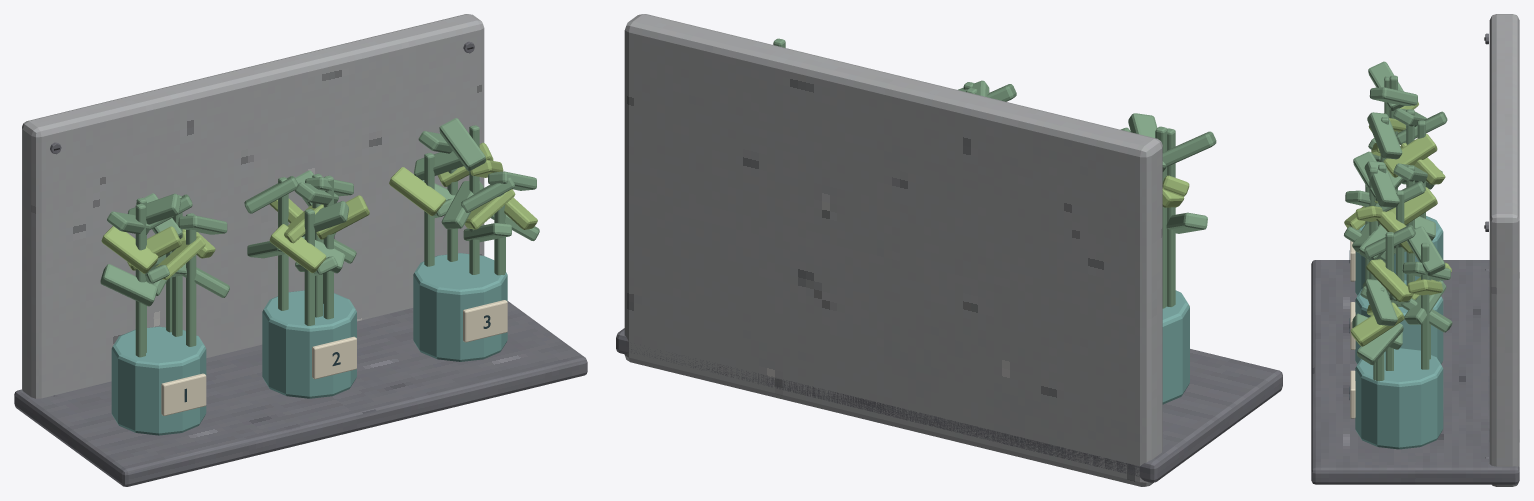
The model's file is lbd_bot_cuttings.glb.
The picture shows the model from 3 angles, left to right: view 1: azimuth 30°, elevation 25°; view 2: azimuth 150°, elevation 25°; view 3: azimuth 270°, elevation 25°; orthographic projection. The views are drawn at different scales.
Parts seen in each view (by area): view 1: bot_cuttings__mount_003, bot_cuttings__shelf_022, bot_cuttings__jar_157, bot_cuttings__jar_023, bot_cuttings__jar_090, bot_cuttings__plant label_086, bot_cuttings__plant label_220, bot_cuttings__plant label_153, bot_cuttings__folded leaf_202, bot_cuttings__folded leaf_193, bot_cuttings__folded leaf_077, bot_cuttings__folded leaf_068 (+24 smaller); view 2: bot_cuttings__mount_003, bot_cuttings__shelf_022, bot_cuttings__jar_023, bot_cuttings__stem_074, bot_cuttings__folded leaf_083, bot_cuttings__stem_062, bot_cuttings__folded leaf_077; view 3: bot_cuttings__shelf_022, bot_cuttings__mount_003, bot_cuttings__jar_157, bot_cuttings__jar_090, bot_cuttings__folded leaf_047, bot_cuttings__folded leaf_181, bot_cuttings__folded leaf_114, bot_cuttings__folded leaf_032, bot_cuttings__folded leaf_190, bot_cuttings__jar_023, bot_cuttings__folded leaf_217, bot_cuttings__stem_208 (+30 smaller).
Part boxes in pixels (x1=…): bot_cuttings__mount_003: x1=22, y1=14, x2=484, y2=398; bot_cuttings__shelf_022: x1=14, y1=301, x2=587, y2=486; bot_cuttings__jar_157: x1=413, y1=253, x2=507, y2=361; bot_cuttings__jar_023: x1=111, y1=326, x2=206, y2=435; bot_cuttings__jar_090: x1=262, y1=290, x2=356, y2=398; bot_cuttings__plant label_086: x1=161, y1=373, x2=206, y2=415; bot_cuttings__plant label_220: x1=463, y1=300, x2=507, y2=342; bot_cuttings__plant label_153: x1=312, y1=336, x2=356, y2=379; bot_cuttings__folded leaf_202: x1=389, y1=167, x2=445, y2=215; bot_cuttings__folded leaf_193: x1=439, y1=118, x2=485, y2=171; bot_cuttings__folded leaf_077: x1=100, y1=264, x2=157, y2=306; bot_cuttings__folded leaf_068: x1=101, y1=226, x2=158, y2=273; bot_cuttings__mount_003: x1=624, y1=14, x2=1162, y2=486; bot_cuttings__shelf_022: x1=616, y1=328, x2=1282, y2=482; bot_cuttings__jar_023: x1=1162, y1=290, x2=1189, y2=404; bot_cuttings__stem_074: x1=1167, y1=128, x2=1175, y2=306; bot_cuttings__folded leaf_083: x1=1162, y1=131, x2=1216, y2=166; bot_cuttings__stem_062: x1=1155, y1=126, x2=1167, y2=308; bot_cuttings__folded leaf_077: x1=1166, y1=212, x2=1207, y2=233; bot_cuttings__shelf_022: x1=1311, y1=260, x2=1519, y2=484; bot_cuttings__mount_003: x1=1489, y1=14, x2=1519, y2=486; bot_cuttings__jar_157: x1=1355, y1=348, x2=1443, y2=449; bot_cuttings__jar_090: x1=1355, y1=280, x2=1443, y2=363; bot_cuttings__folded leaf_047: x1=1367, y1=112, x2=1402, y2=159; bot_cuttings__folded leaf_181: x1=1362, y1=279, x2=1397, y2=325; bot_cuttings__folded leaf_114: x1=1364, y1=161, x2=1399, y2=207; bot_cuttings__folded leaf_032: x1=1383, y1=133, x2=1437, y2=177; bot_cuttings__folded leaf_190: x1=1366, y1=259, x2=1413, y2=301; bot_cuttings__jar_023: x1=1355, y1=216, x2=1443, y2=295; bot_cuttings__folded leaf_217: x1=1407, y1=226, x2=1445, y2=275; bot_cuttings__stem_208: x1=1421, y1=242, x2=1429, y2=369.
Bounding box in the file's own units: 1.08 × 0.65 × 0.45.
Materials: 8 (3 with a texture image).
